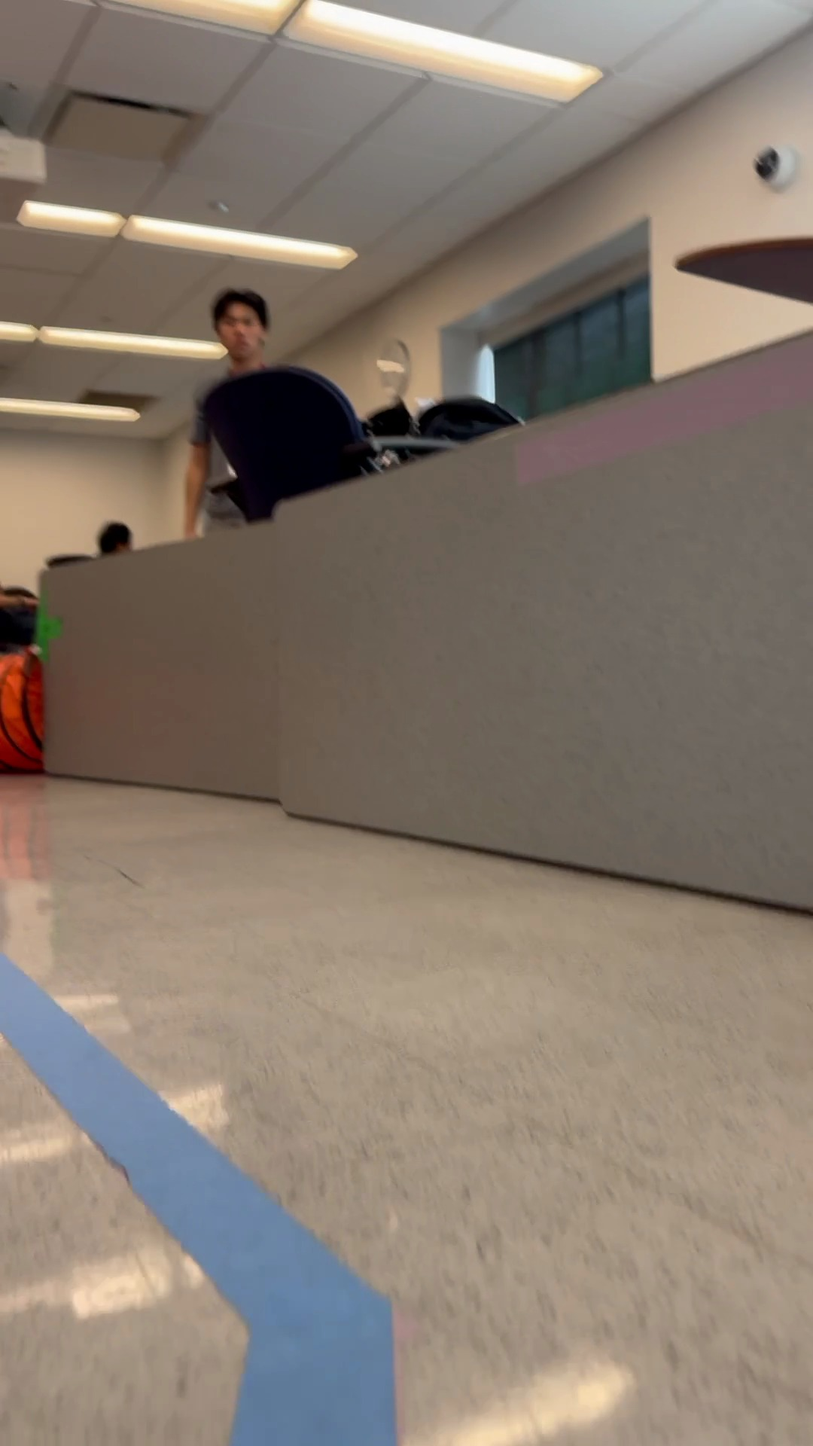racecar: (197, 366, 523, 523)
